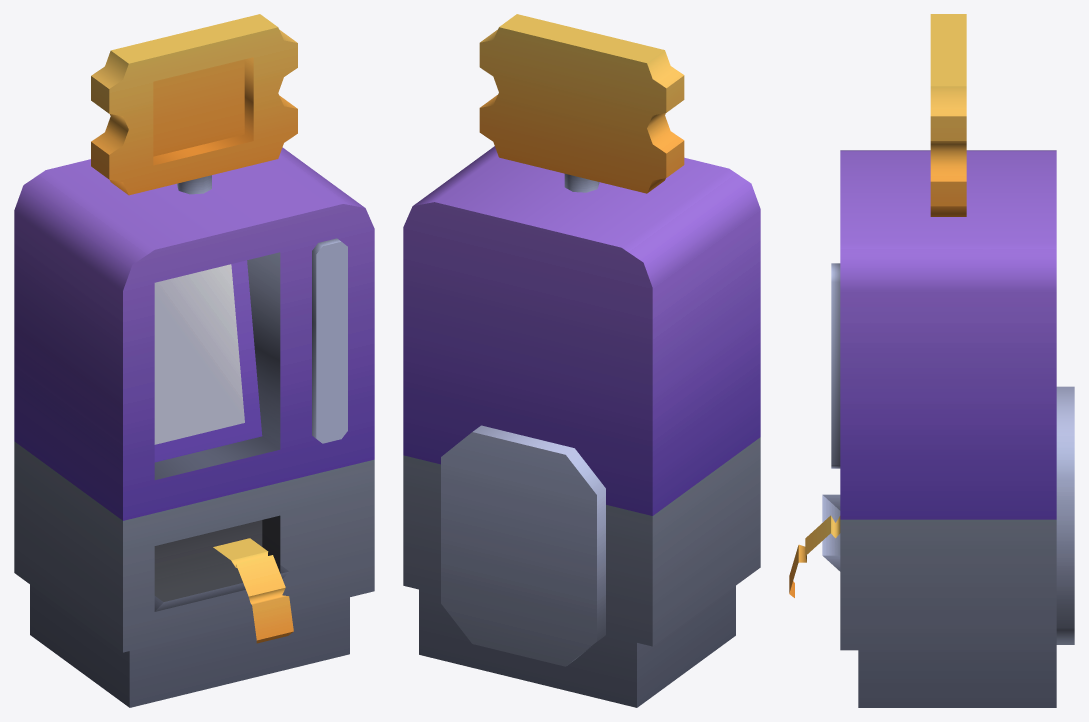
The model's file is arcade.ticket_machine.glb.
The picture shows the model from 3 angles, left to right: view 1: azimuth 30°, elevation 25°; view 2: azimuth 150°, elevation 25°; view 3: azimuth 270°, elevation 25°; orthographic projection.
Visible parts, largest first — view 1: ticket-machine, rotate-y; view 2: ticket-machine, rotate-y; view 3: ticket-machine, rotate-y.
Part boxes in pixels (bbox=[...]): ticket-machine: bbox=[14, 147, 374, 707]; rotate-y: bbox=[91, 14, 297, 195]; ticket-machine: bbox=[403, 146, 760, 707]; rotate-y: bbox=[479, 14, 684, 193]; ticket-machine: bbox=[789, 150, 1074, 707]; rotate-y: bbox=[930, 14, 966, 216].
Bounding box in the file's own units: 0.9931 × 2.3 × 0.9828.
1 material, 1 textured.
